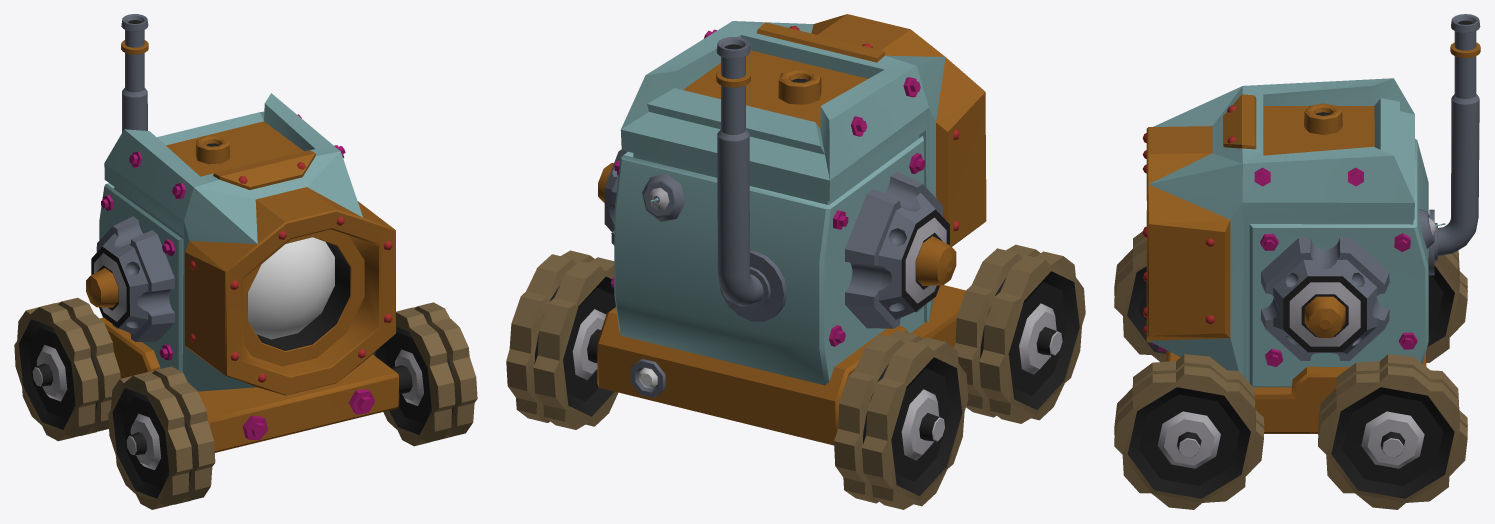
File: basic_enemy.fbx
3 renders of one model, left to right at view 1: azimuth 30°, elevation 25°; view 2: azimuth 150°, elevation 25°; view 3: azimuth 270°, elevation 25°, orthographic. The views are drawn at different scales.
Parts seen in each view (by area): view 1: basic_enemy, basic_enemy_wheels_front, basic_enemy_wheels_back, basic_enemy_emission_blue; view 2: basic_enemy, basic_enemy_wheels_back, basic_enemy_wheels_front; view 3: basic_enemy, basic_enemy_wheels_back, basic_enemy_wheels_front.
Boxes of the visible parts, box(x1,y1,x2,y2) form: basic_enemy: box(86, 14, 399, 452); basic_enemy_wheels_front: box(108, 302, 477, 509); basic_enemy_wheels_back: box(14, 297, 120, 441); basic_enemy_emission_blue: box(248, 237, 334, 339); basic_enemy: box(597, 14, 986, 445); basic_enemy_wheels_back: box(506, 250, 968, 509); basic_enemy_wheels_front: box(954, 244, 1085, 423); basic_enemy: box(1142, 14, 1480, 433); basic_enemy_wheels_back: box(1318, 248, 1467, 509); basic_enemy_wheels_front: box(1114, 231, 1264, 509).
Size of the model in its own units: 42.18 by 45.38 by 38.16.
